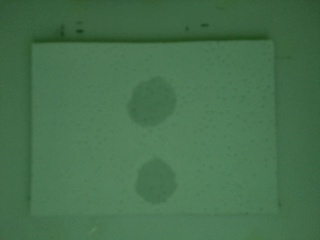Water_detected: (129, 77, 168, 116), (146, 166, 169, 193)
